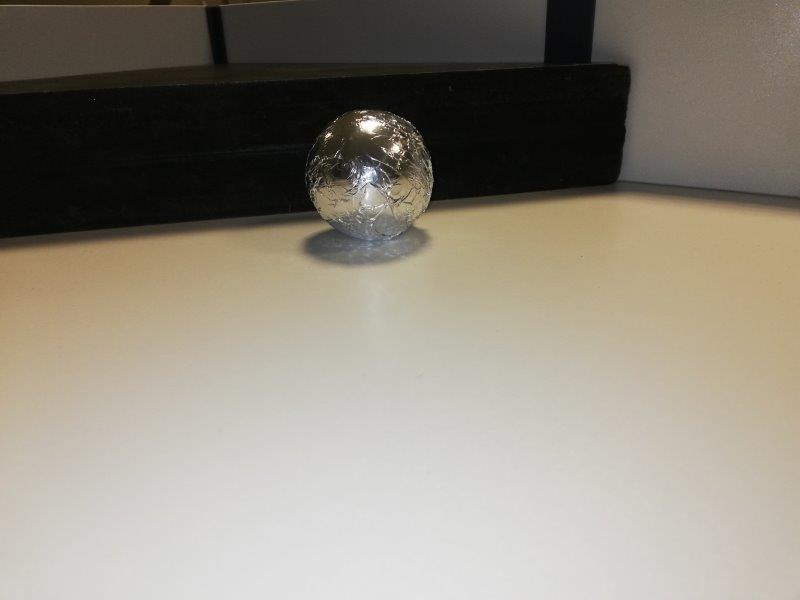bianca: (303, 107, 437, 242)
